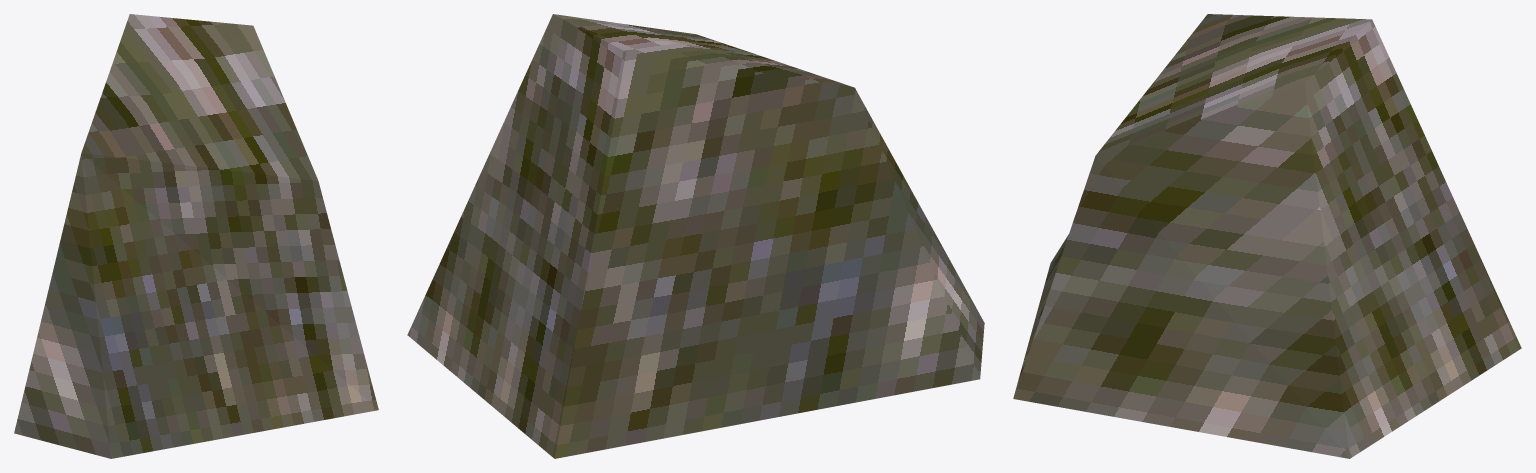
The model's file is uvmd-0055.glb.
The picture shows the model from 3 angles, left to right: view 1: azimuth 30°, elevation 25°; view 2: azimuth 150°, elevation 25°; view 3: azimuth 270°, elevation 25°; orthographic projection. The views are drawn at different scales.
Parts seen in each view (by area): view 1: uvmd-0055; view 2: uvmd-0055; view 3: uvmd-0055.
Boxes of the visible parts, bbox=[...] form: uvmd-0055: bbox=[14, 14, 378, 458]; uvmd-0055: bbox=[407, 14, 984, 458]; uvmd-0055: bbox=[1013, 14, 1521, 458].
Size of the model in its own units: 70 by 49 by 68.
1 material, 1 textured.
